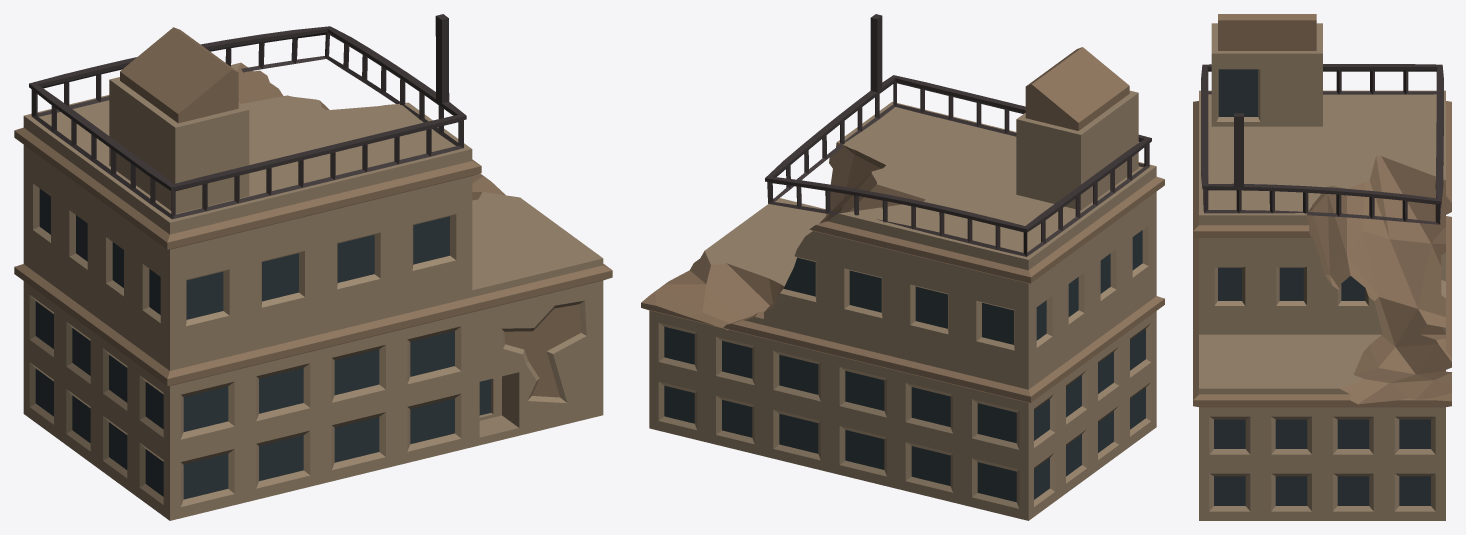
Rendered from LP_PostApoc_BuildingPreset4.fbx.
3 renders of one model, left to right at view 1: azimuth 30°, elevation 25°; view 2: azimuth 150°, elevation 25°; view 3: azimuth 270°, elevation 25°, orthographic. The views are drawn at different scales.
Visible parts, largest first — view 1: BuildingPreset4; view 2: BuildingPreset4; view 3: BuildingPreset4.
Part boxes in pixels (x1,y1,x2,y2): BuildingPreset4: [14, 14, 612, 520]; BuildingPreset4: [641, 14, 1164, 520]; BuildingPreset4: [1193, 14, 1451, 520].
Size of the model in its own units: 2073 by 1890 by 1236.
